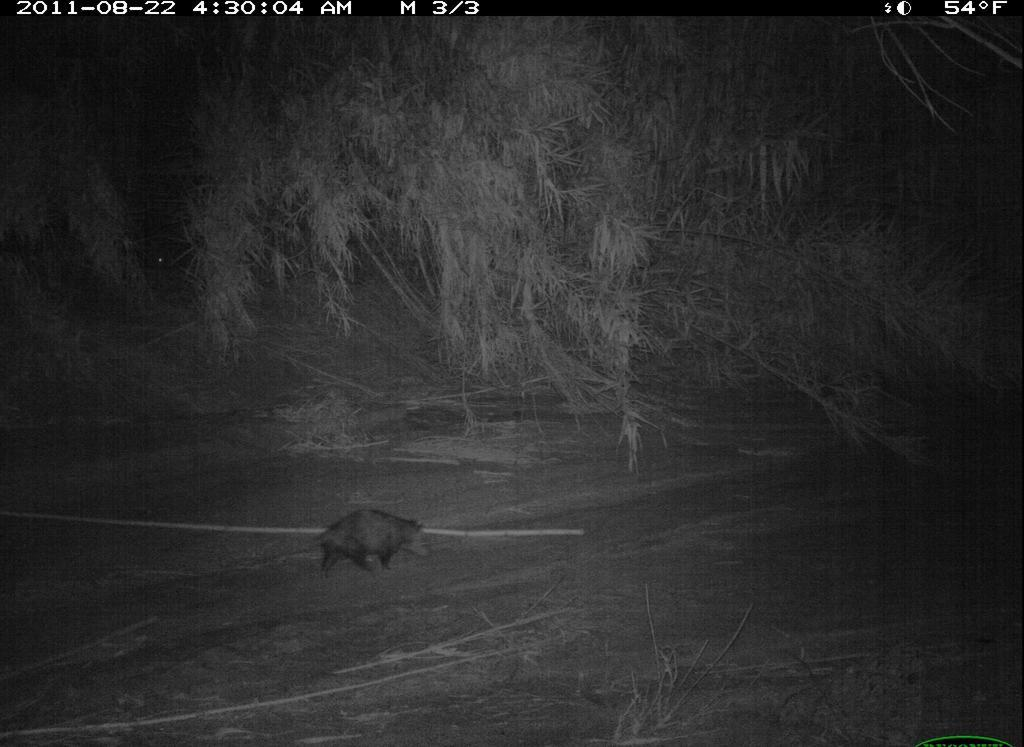opossum: (245, 498, 443, 592)
